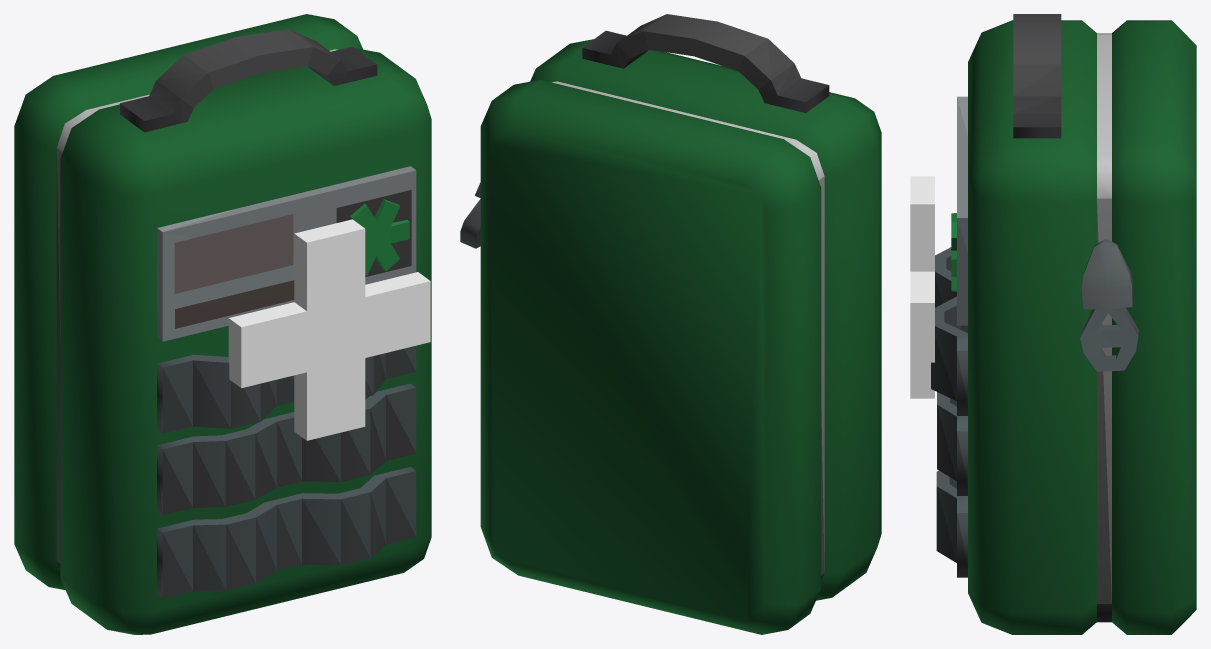
The model's file is item_repair.glb.
The picture shows the model from 3 angles, left to right: view 1: azimuth 30°, elevation 25°; view 2: azimuth 150°, elevation 25°; view 3: azimuth 270°, elevation 25°; orthographic projection. The views are drawn at different scales.
Parts seen in each view (by area): view 1: item_mesh; view 2: item_mesh; view 3: item_mesh.
Part boxes in pixels (bbox=[...]): item_mesh: bbox=[14, 14, 431, 634]; item_mesh: bbox=[460, 14, 881, 634]; item_mesh: bbox=[910, 14, 1196, 634].
Bounding box in the file's own units: 0.5176 × 0.72 × 0.3468.
Materials: 1 (1 with a texture image).
